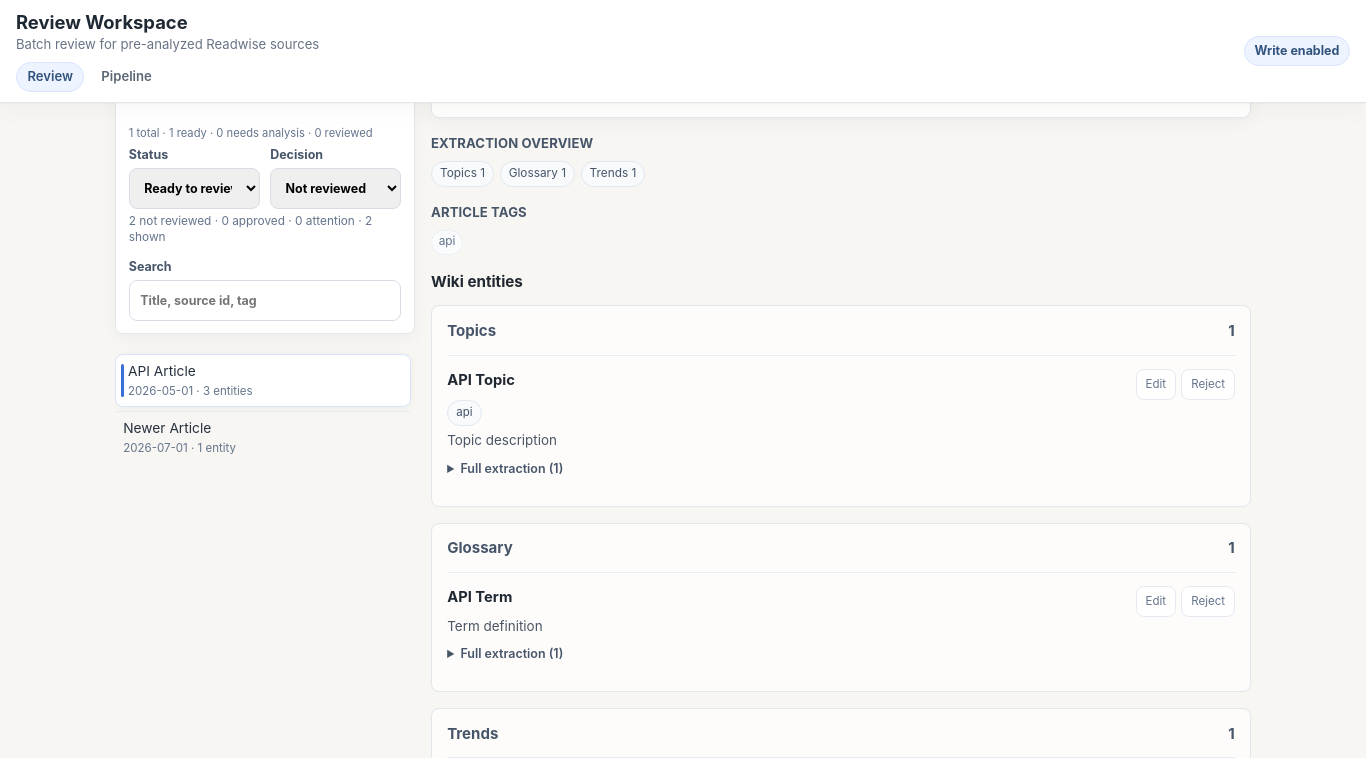
Test case: App › rejects entities from the default list and reveals them with show rejected
(page scrolled)
Click the button with aria-label "Reject API Topic" at [1208, 384], box [1181,369,1235,400]
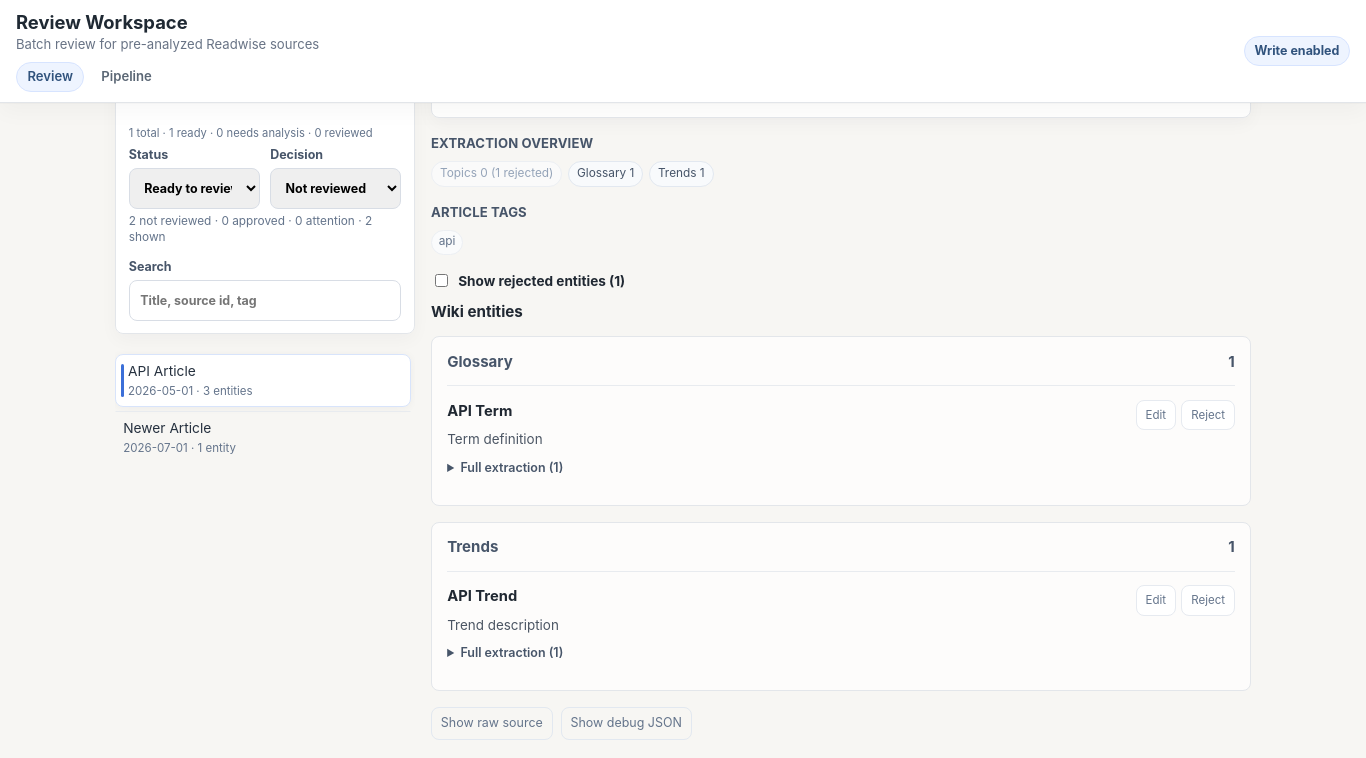
Expected: the heading "API Topic" is gone
Click the checkbox labelled "Show rejected entities (1)" at [442, 281], box [435,274,448,287]
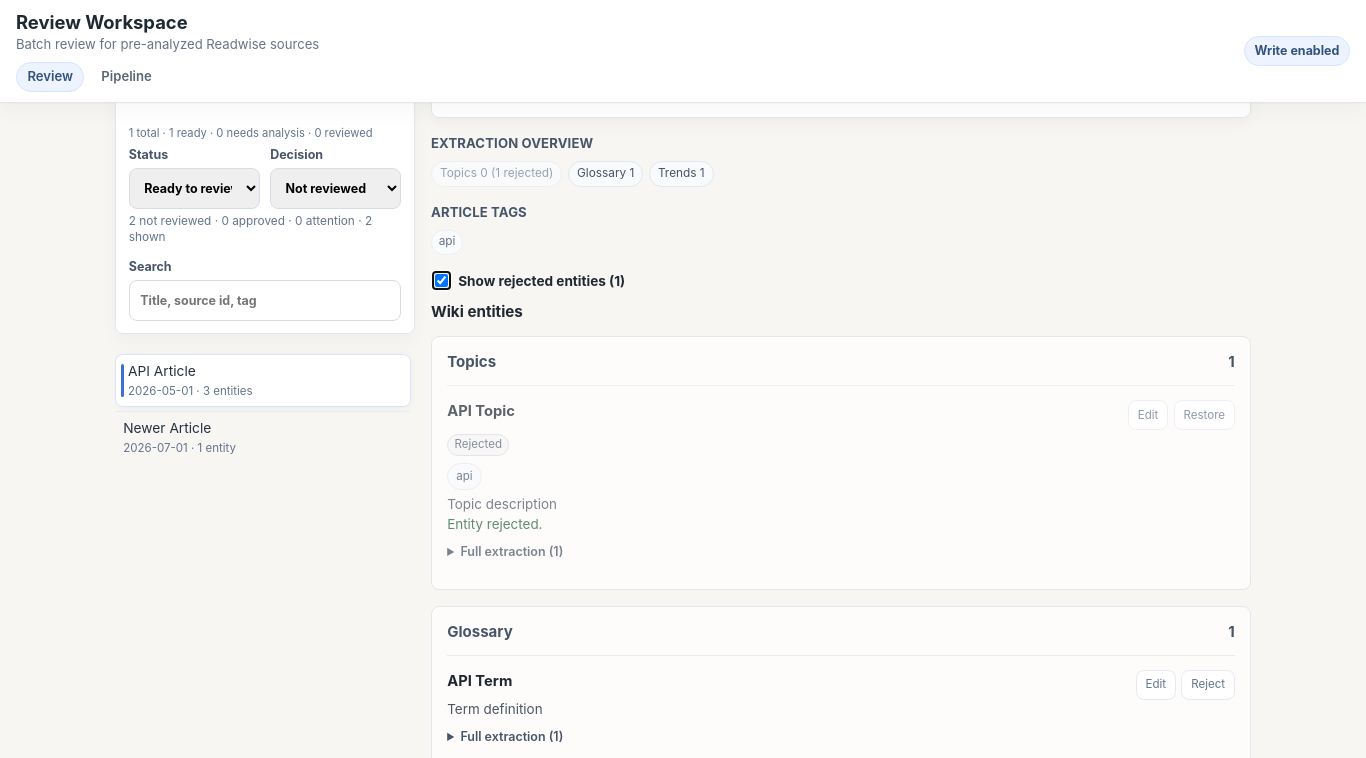
Expected: the heading "API Topic" is shown, [447,400,515,422]
Expected: the text "Rejected" is shown, [447,434,510,456]
